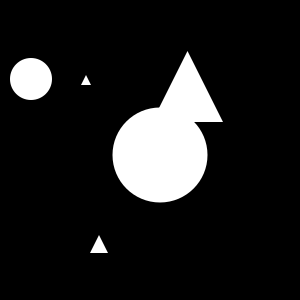rectangle: (112, 108, 208, 202), (10, 58, 52, 100)
triangle: (152, 51, 223, 122), (90, 235, 108, 253), (81, 75, 91, 85)
